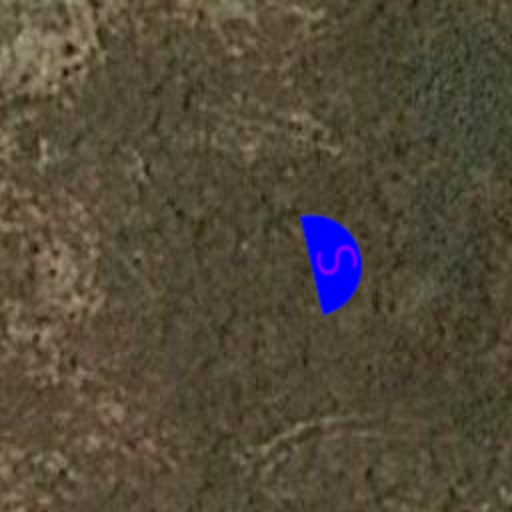semicircle: (274, 198, 398, 322)
